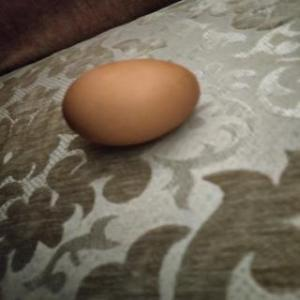egg: (56, 56, 204, 148)
